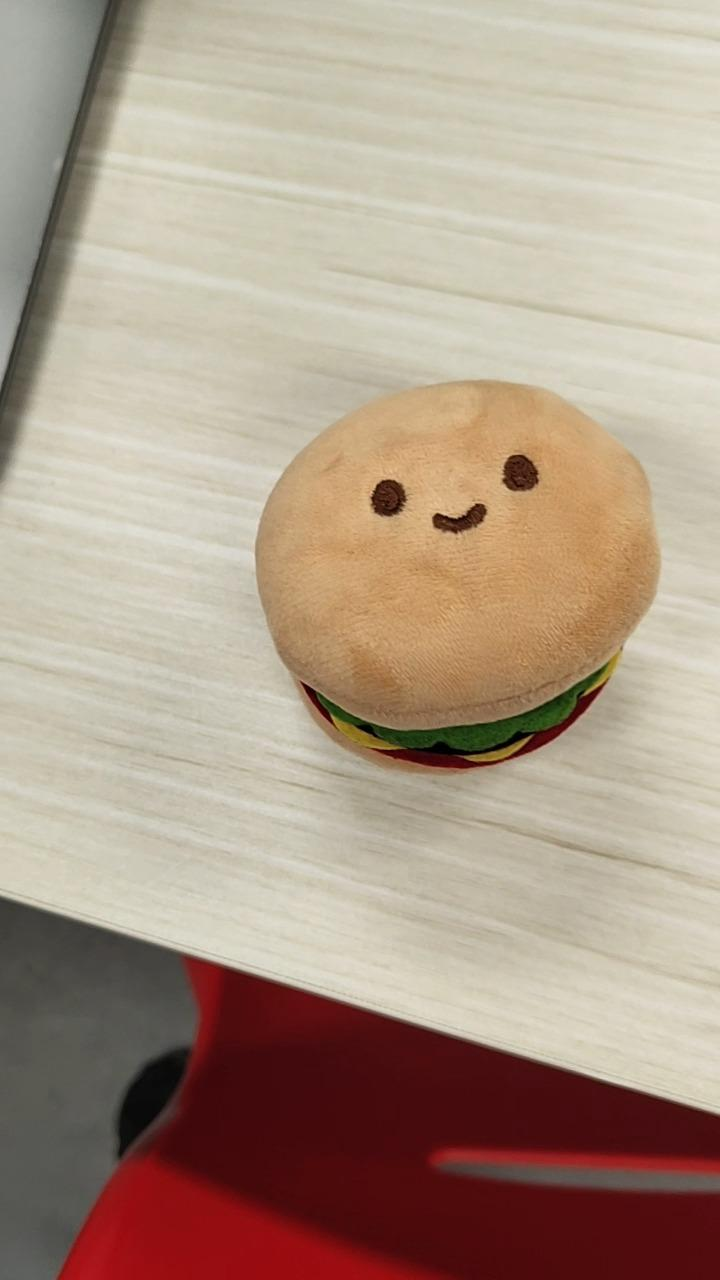hamburger: (253, 376, 661, 773)
